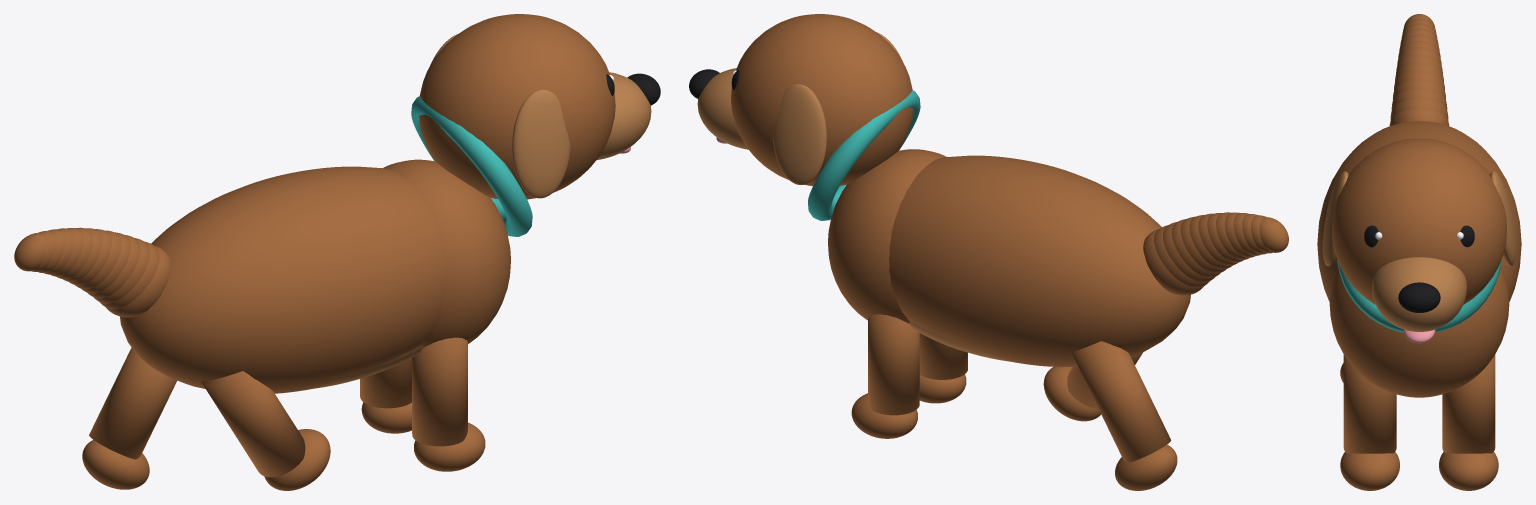
Rendered from dachshund.glb.
3 renders of one model, left to right at view 1: azimuth 30°, elevation 25°; view 2: azimuth 150°, elevation 25°; view 3: azimuth 270°, elevation 25°, orthographic. The views are drawn at different scales.
Parts seen in each view (by area): view 1: Body, Head, Chest, Leg3, Leg1, Leg2, Ear-1, Collar, Muzzle, Paw2, Leg0, Paw1 (+8 smaller); view 2: Body, Head, Chest, Leg2, Leg0, Ear1, Collar, Muzzle, Paw2, Leg1, Paw0, Paw3 (+7 smaller); view 3: Head, Chest, Muzzle, Body, Leg0, Leg1, Paw0, Paw1, Collar, Nose, Ear1, Ear-1 (+14 smaller).
Part boxes in pixels (left/top/right/bottom): Body: left=120, top=166, right=445, bottom=393; Head: left=419, top=14, right=615, bottom=199; Chest: left=383, top=159, right=510, bottom=347; Leg3: left=201, top=371, right=305, bottom=477; Leg1: left=412, top=337, right=467, bottom=446; Leg2: left=89, top=347, right=176, bottom=459; Ear-1: left=512, top=89, right=570, bottom=198; Collar: left=411, top=96, right=532, bottom=236; Muzzle: left=596, top=72, right=651, bottom=160; Paw2: left=82, top=440, right=149, bottom=489; Leg0: left=360, top=357, right=411, bottom=408; Paw1: left=414, top=422, right=485, bottom=471; Body: left=889, top=155, right=1190, bottom=366; Head: left=731, top=14, right=913, bottom=186; Chest: left=828, top=149, right=946, bottom=323; Leg2: left=1072, top=341, right=1171, bottom=462; Leg0: left=868, top=314, right=919, bottom=415; Ear1: left=772, top=84, right=826, bottom=184; Collar: left=808, top=90, right=920, bottom=220; Muzzle: left=697, top=68, right=748, bottom=149; Paw2: left=1115, top=444, right=1177, bottom=490; Leg1: left=919, top=333, right=967, bottom=379; Paw0: left=851, top=393, right=917, bottom=438; Paw3: left=1043, top=367, right=1101, bottom=421; Head: left=1332, top=138, right=1506, bottom=304; Chest: left=1329, top=266, right=1509, bottom=397; Muzzle: left=1372, top=257, right=1466, bottom=331; Body: left=1317, top=121, right=1521, bottom=301; Leg0: left=1442, top=354, right=1495, bottom=453; Leg1: left=1343, top=354, right=1396, bottom=453; Paw0: left=1439, top=452, right=1498, bottom=490; Paw1: left=1340, top=452, right=1399, bottom=490; Collar: left=1337, top=260, right=1501, bottom=332; Nose: left=1398, top=282, right=1440, bottom=312; Ear1: left=1490, top=171, right=1516, bottom=266; Ear-1: left=1322, top=171, right=1348, bottom=266.
Bounding box in the file's own units: 1.99 × 1.2 × 0.58.
